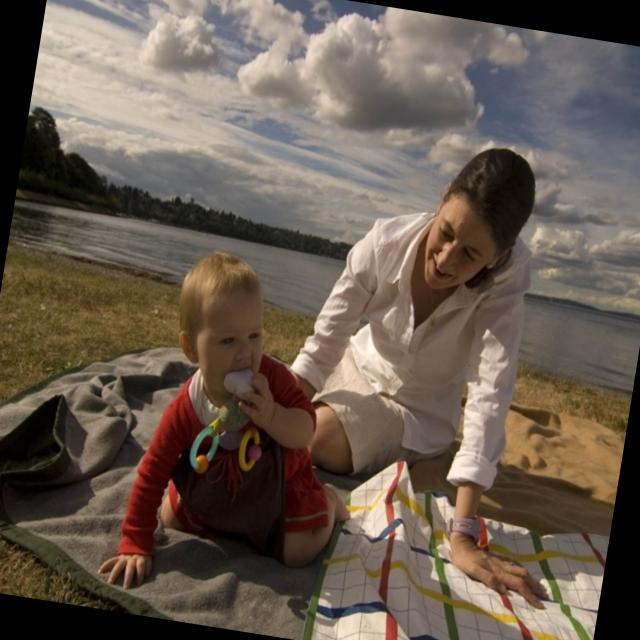Toy: (187, 365, 274, 484)
